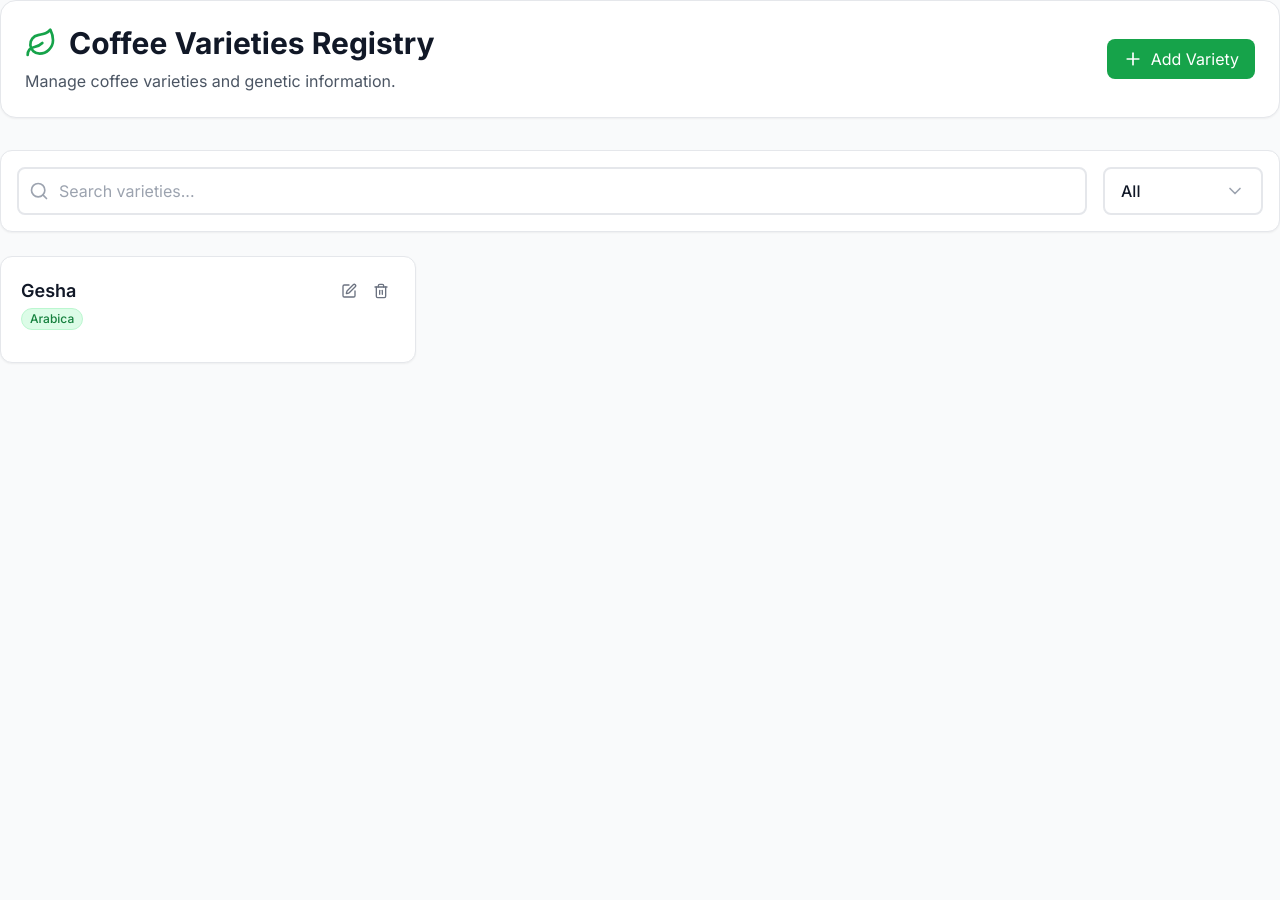
Test case: Coffee variety cards › asks in the site popup before deleting, then reloads the cards
Click the button named "Delete Gesha" at (381, 291), box [367,277,395,305]
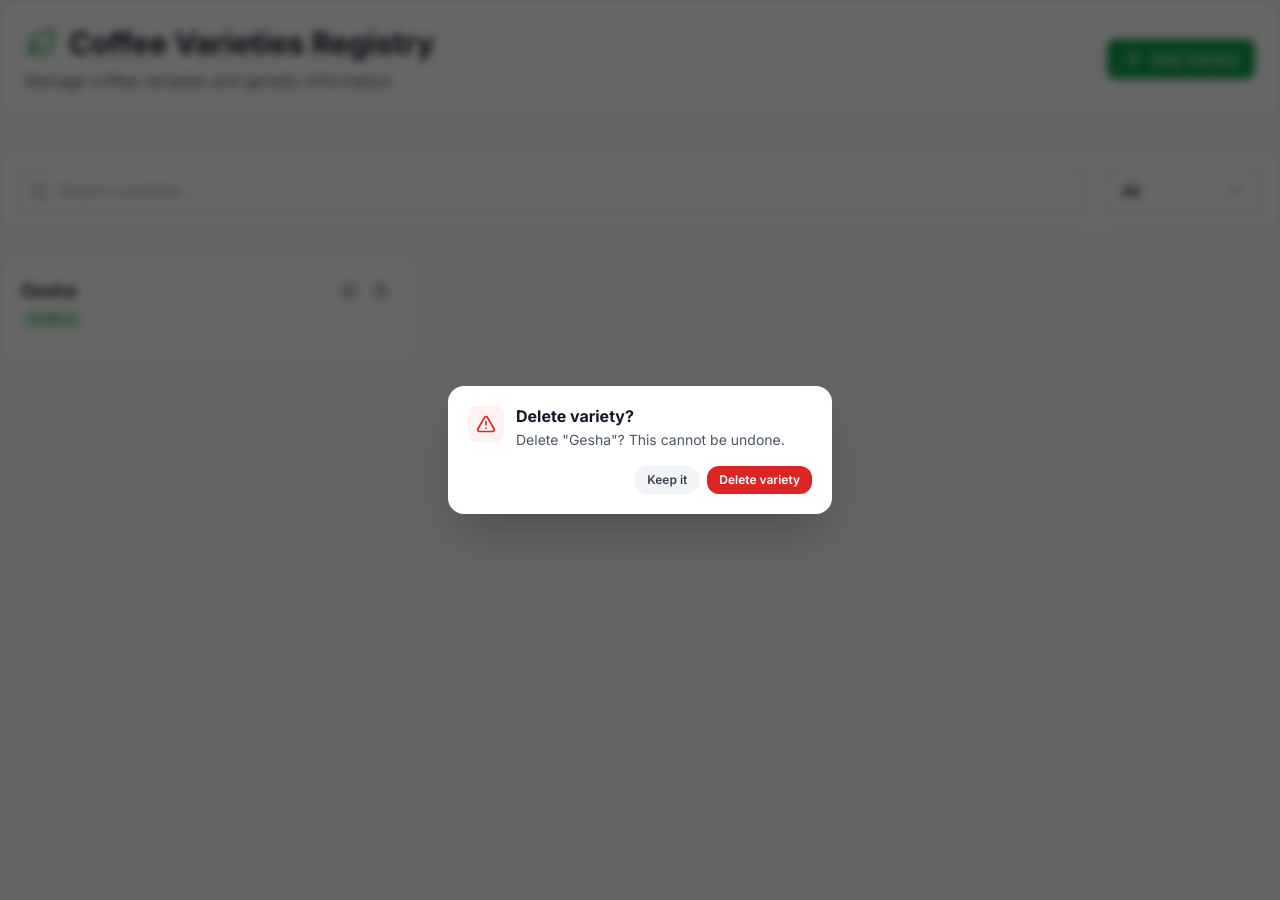
Now the dialog "Delete variety?" shows "\"Gesha\"", box [516,431,785,448]
Click the button "Delete variety" at (760, 480), box [707,466,812,494]
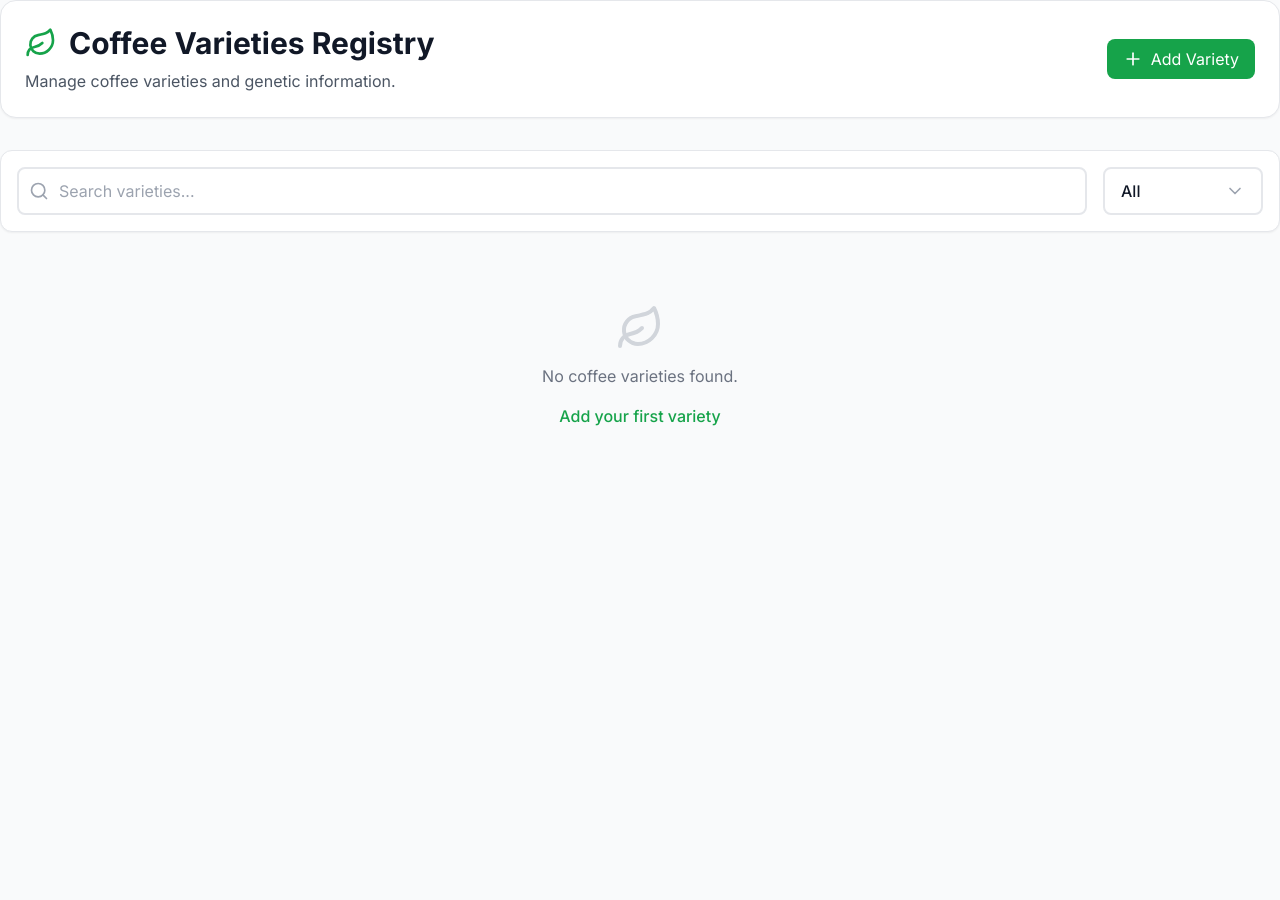
Now the heading "Gesha" is gone
Now the dialog is gone
